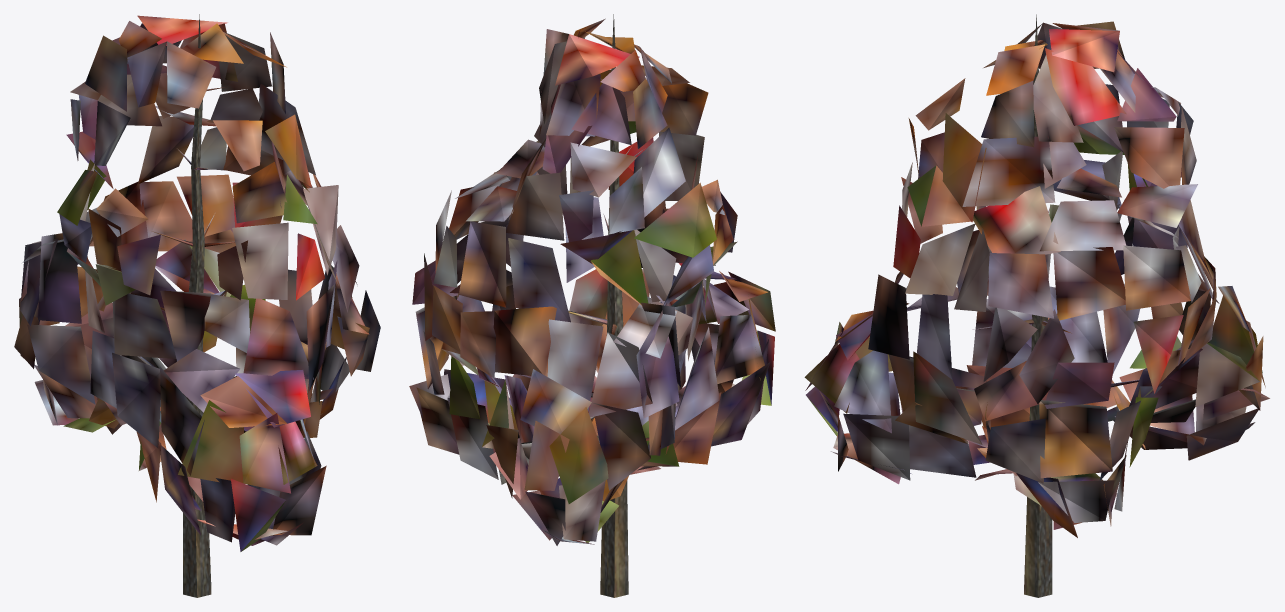
File: Tree12.fbx
The picture shows the model from 3 angles, left to right: view 1: azimuth 30°, elevation 25°; view 2: azimuth 150°, elevation 25°; view 3: azimuth 270°, elevation 25°; orthographic projection.
Parts seen in each view (by area): view 1: Tree12; view 2: Tree12; view 3: Tree12.
Part boxes in pixels (x1,y1,x2,y2): Tree12: (14,14,380,597); Tree12: (409,14,775,597); Tree12: (804,14,1269,597).
Size of the model in its own units: 837 by 1602 by 1171.
